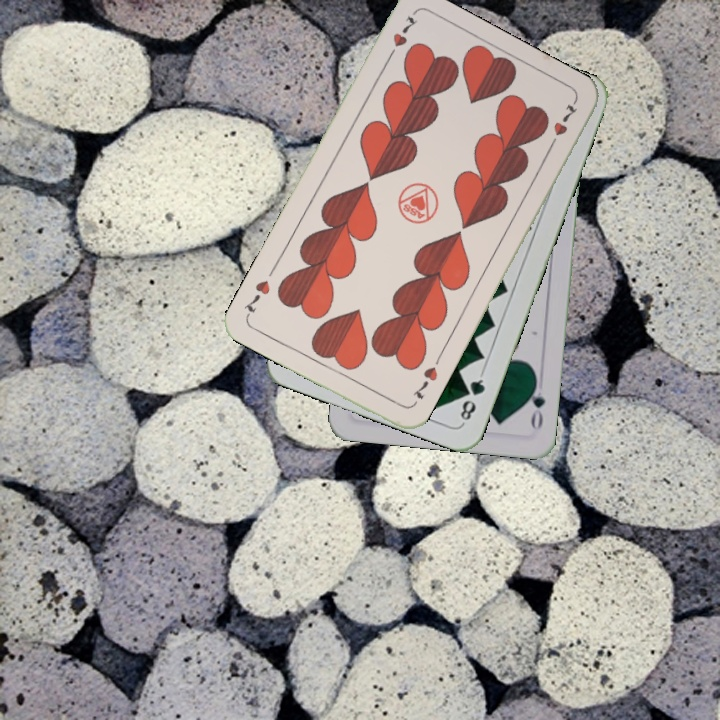G8: (456, 369, 488, 426)
GO: (523, 374, 548, 432)
H7: (382, 11, 421, 64), (408, 362, 440, 403)
